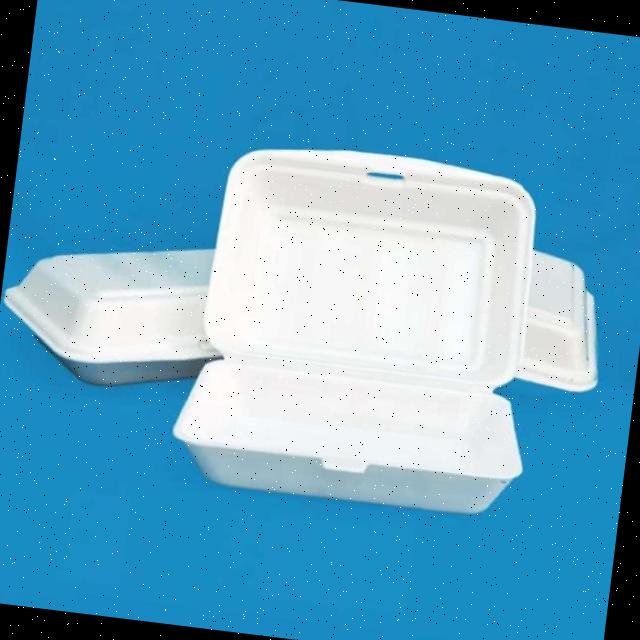styrofoam: (0, 107, 623, 530)
